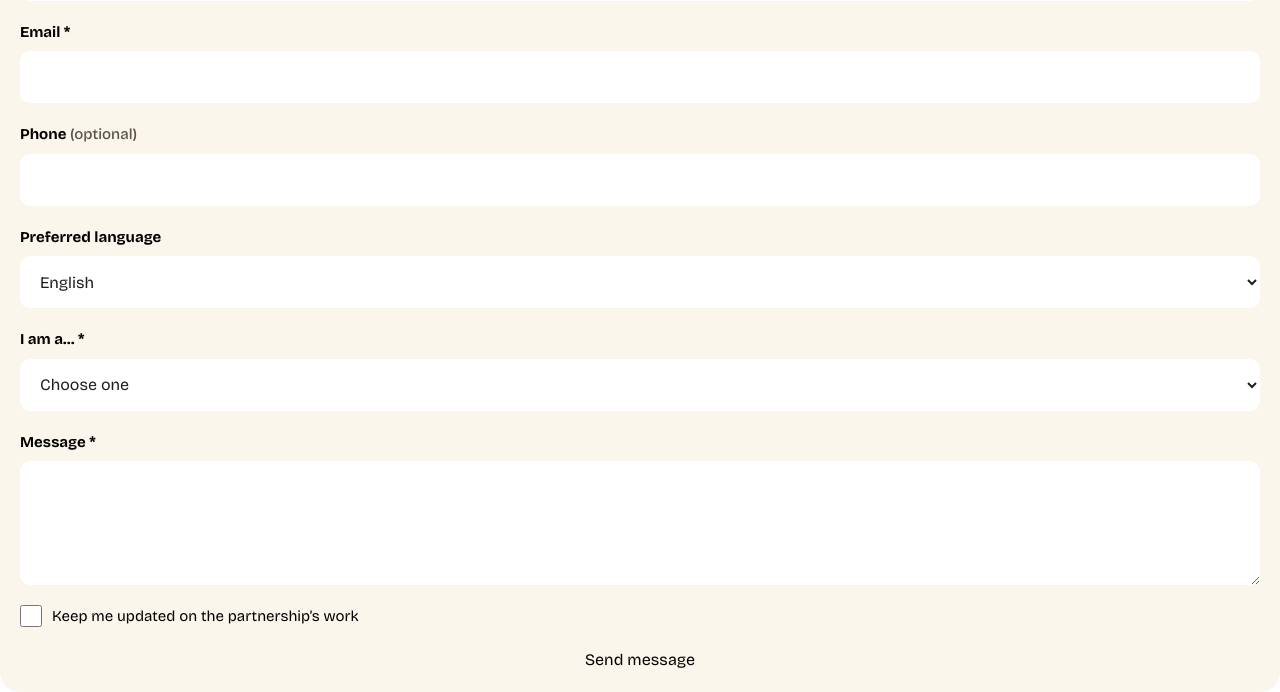
Scenario: ContactForm › flags every missing field in en and focuses the first
This screenshot has width=1280, height=692.
(page scrolled)
Click the button "Send message". click: click(640, 660)
box: [20, 648, 1260, 672]
(page scrolled)
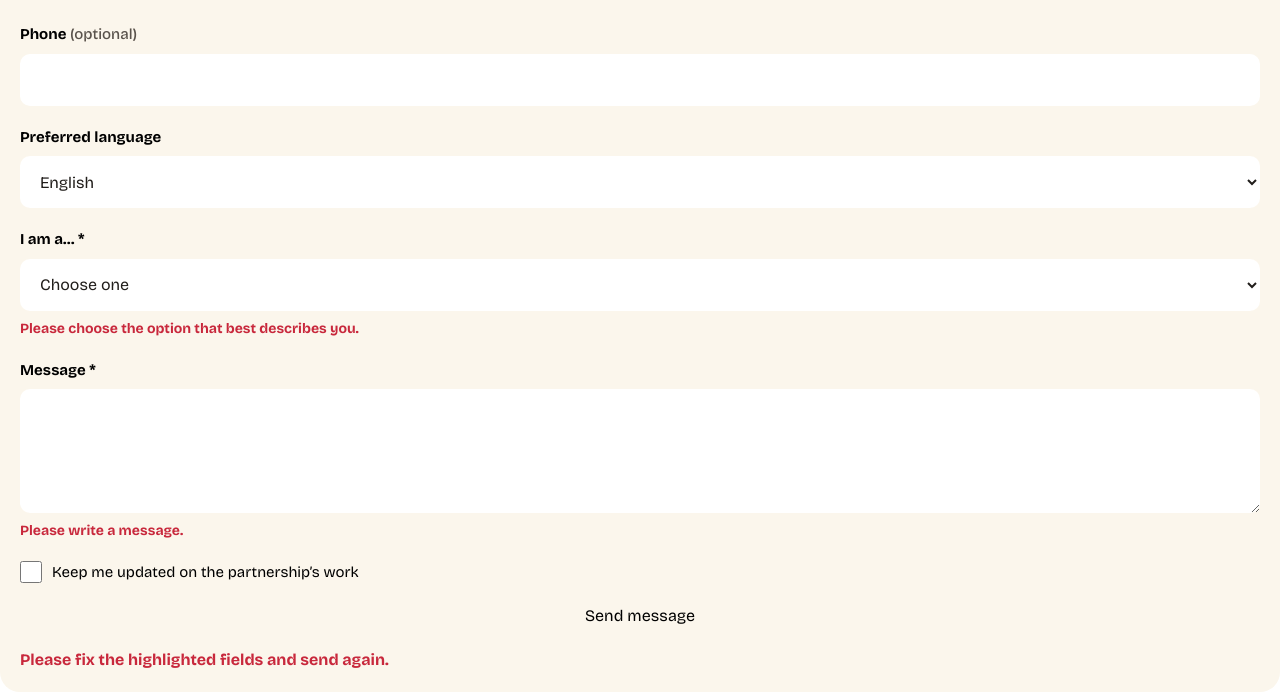
Expected: the message reads "Please fix the highlighted fields and send again.", [20, 650, 389, 668]
